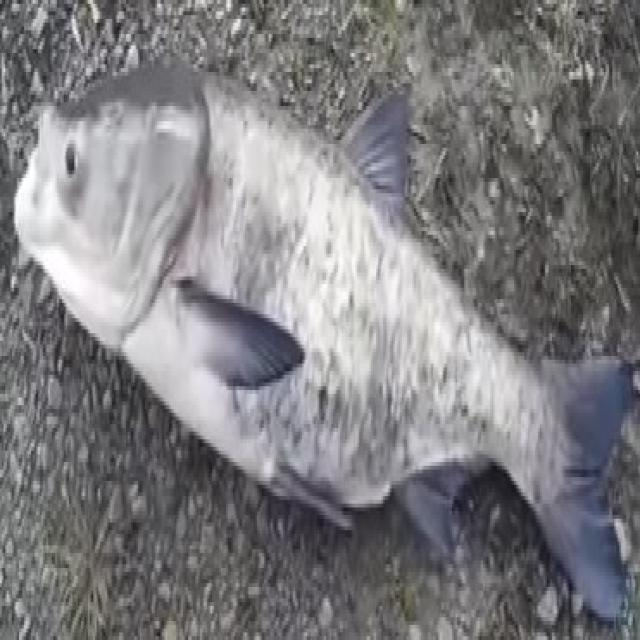Big-Head-Carp: (16, 34, 631, 628)
